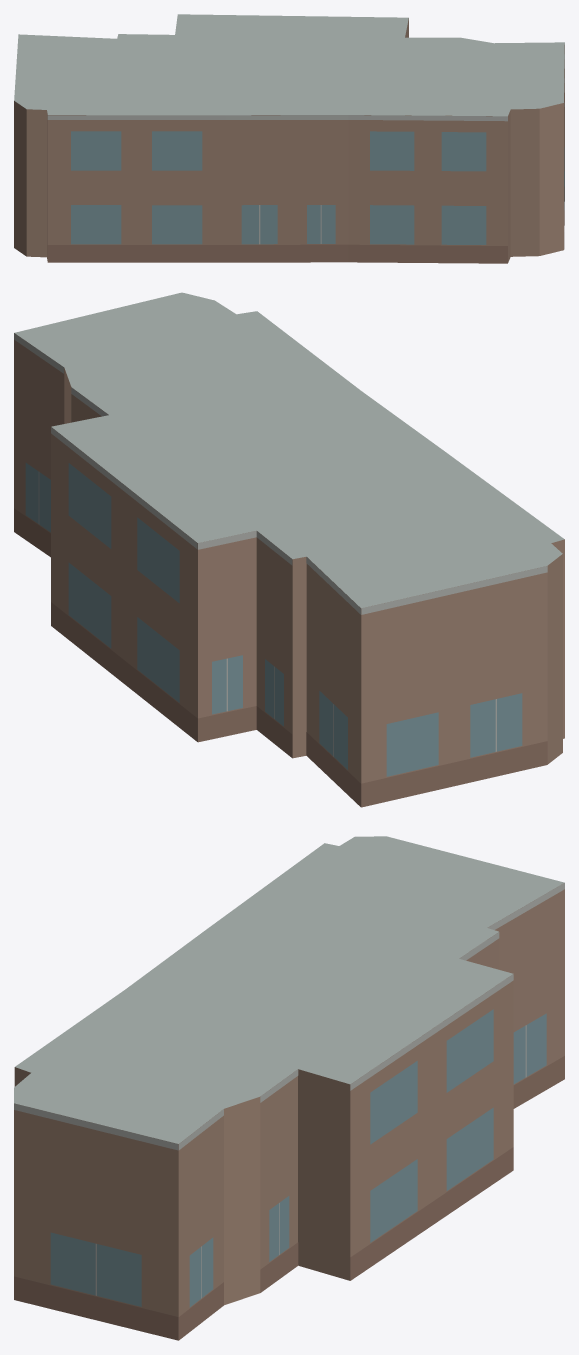
File: survey-upis-32476067.glb
3 views of the same model, one above another, from view 1: azimuth 30°, elevation 25°; view 2: azimuth 150°, elevation 25°; view 3: azimuth 270°, elevation 25° (orthographic). The views are drawn at different scales.
Visible parts, largest first — view 1: survey-upis-32476067.tmp; view 2: survey-upis-32476067.tmp; view 3: survey-upis-32476067.tmp.
Part boxes in pixels (x1,y1,x2,y2): survey-upis-32476067.tmp: (14, 14, 564, 263); survey-upis-32476067.tmp: (14, 292, 564, 807); survey-upis-32476067.tmp: (14, 836, 564, 1340).
Size of the model in its own units: 24.52 by 7.3 by 18.54.
